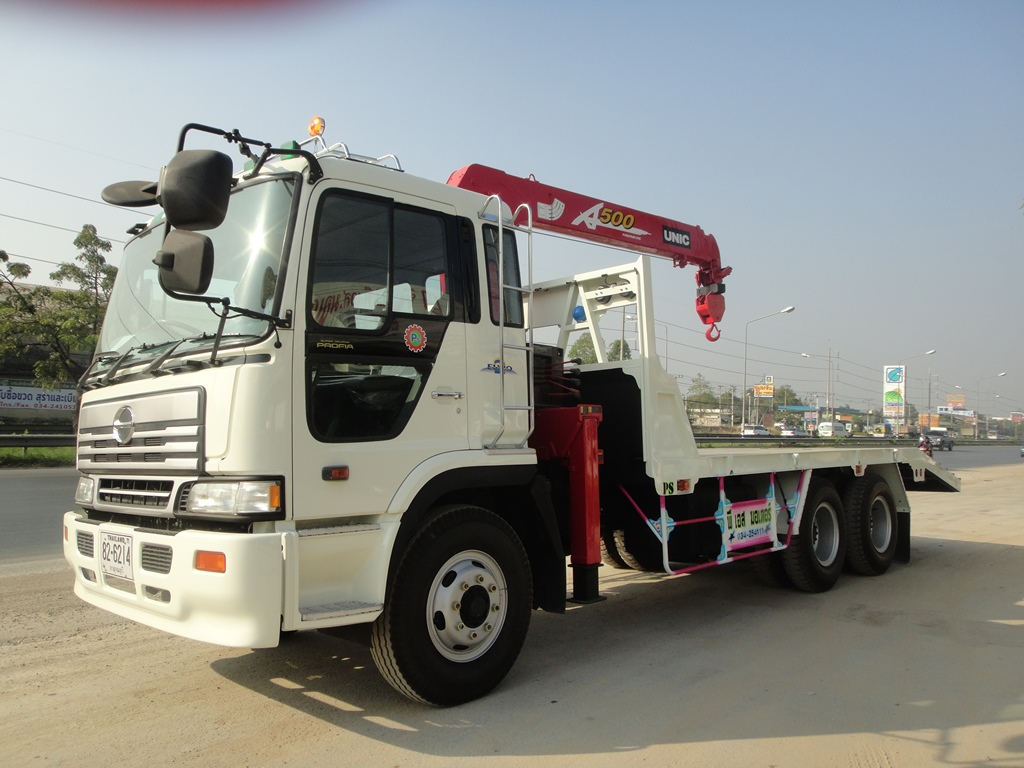truck: (63, 148, 964, 708)
